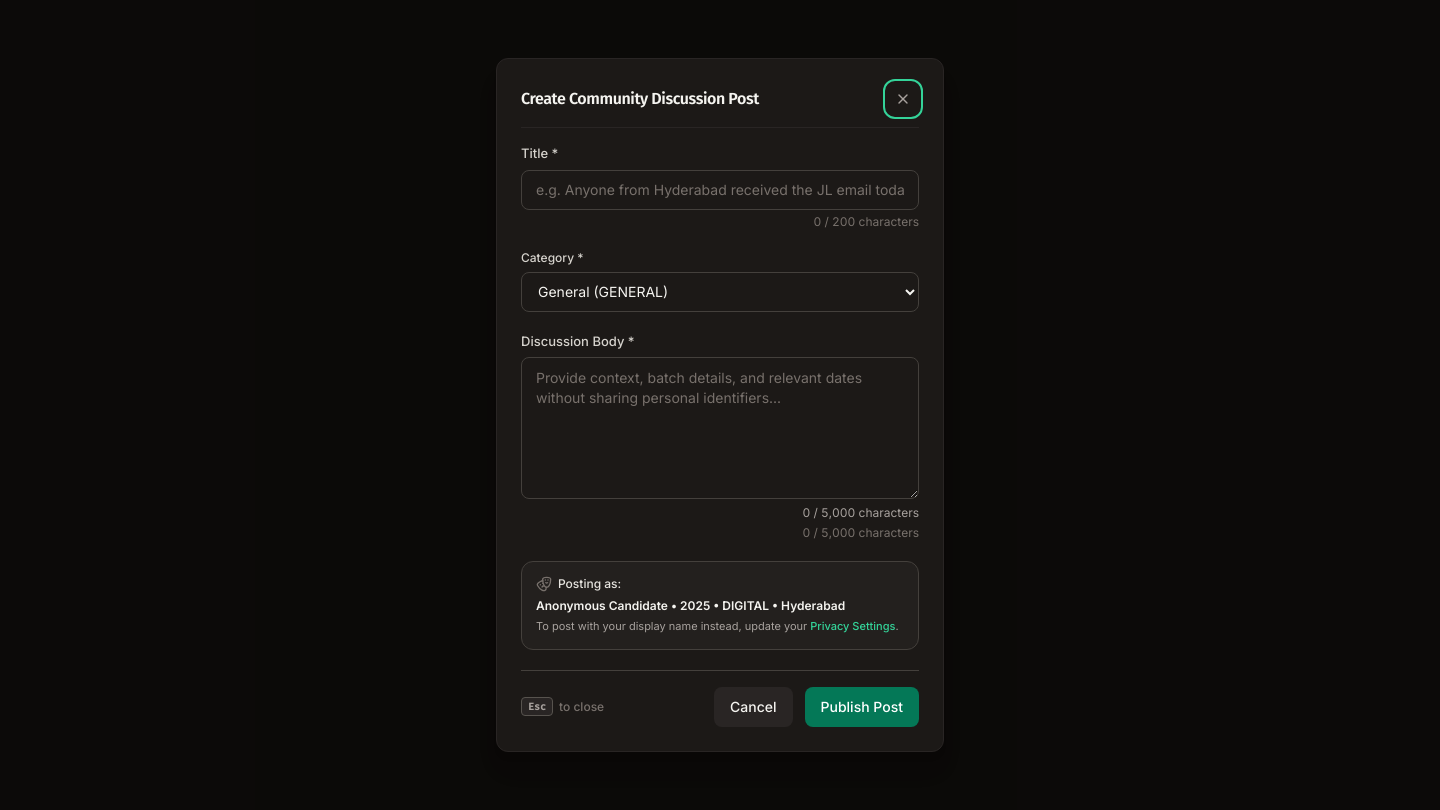
Test: CreatePostModal (contracts) › requires title and body client-side before any request
Click the button "Publish Post": (862, 707) 804,687 -> 919,727
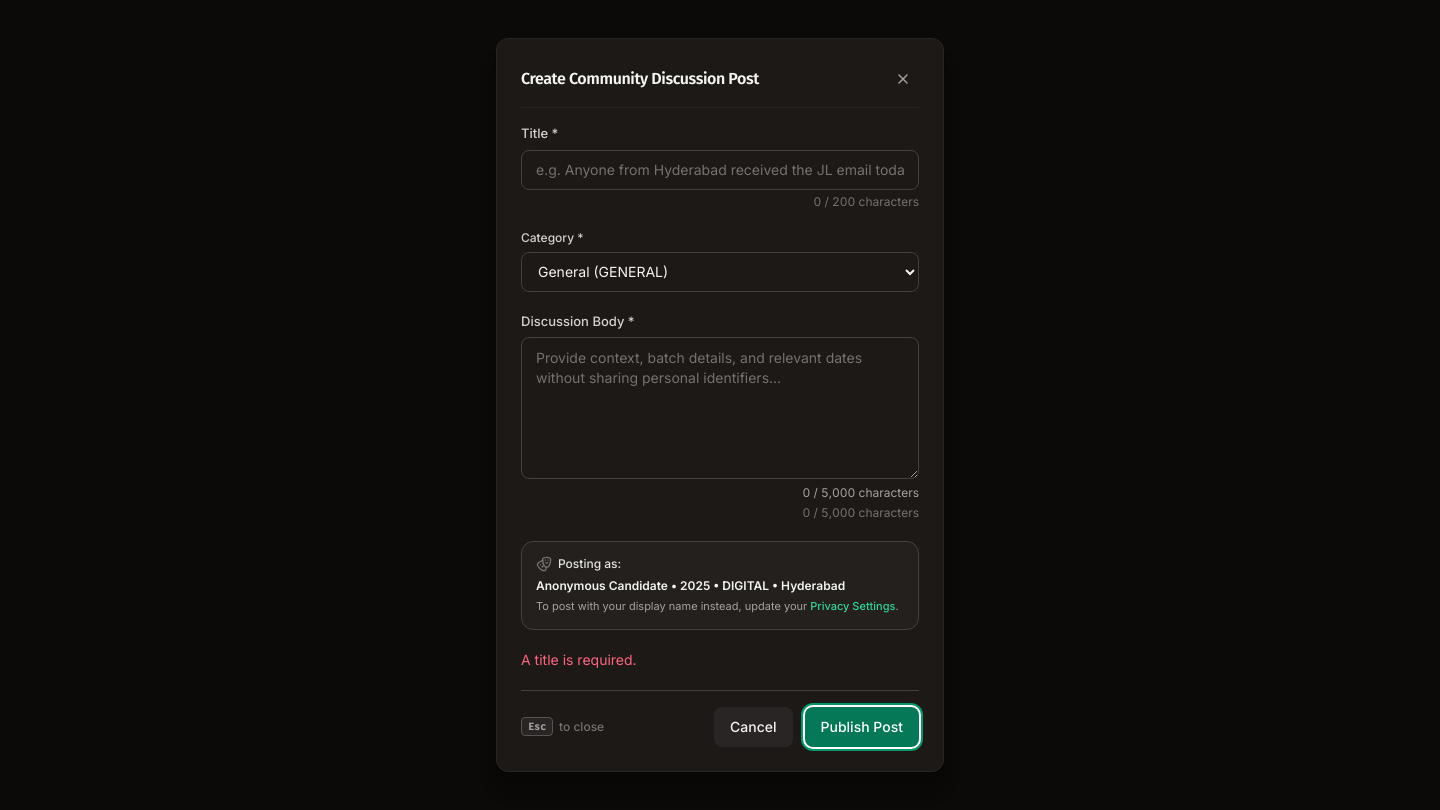
Result: the text "A title is required." is shown at 521,651 -> 637,668
